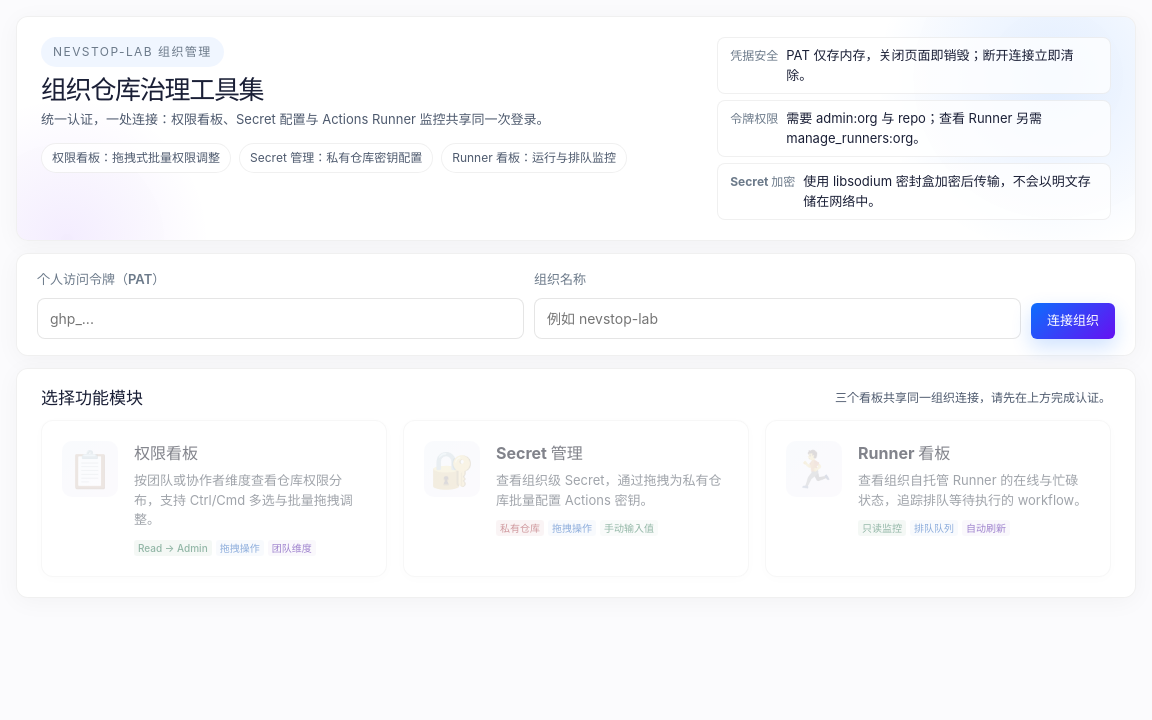
Scenario: Root › connects with an admin token and unlocks board cards
Type "token-value" into the password field labelled "个人访问令牌（PAT）" at (280, 318), box [37,298,524,338]
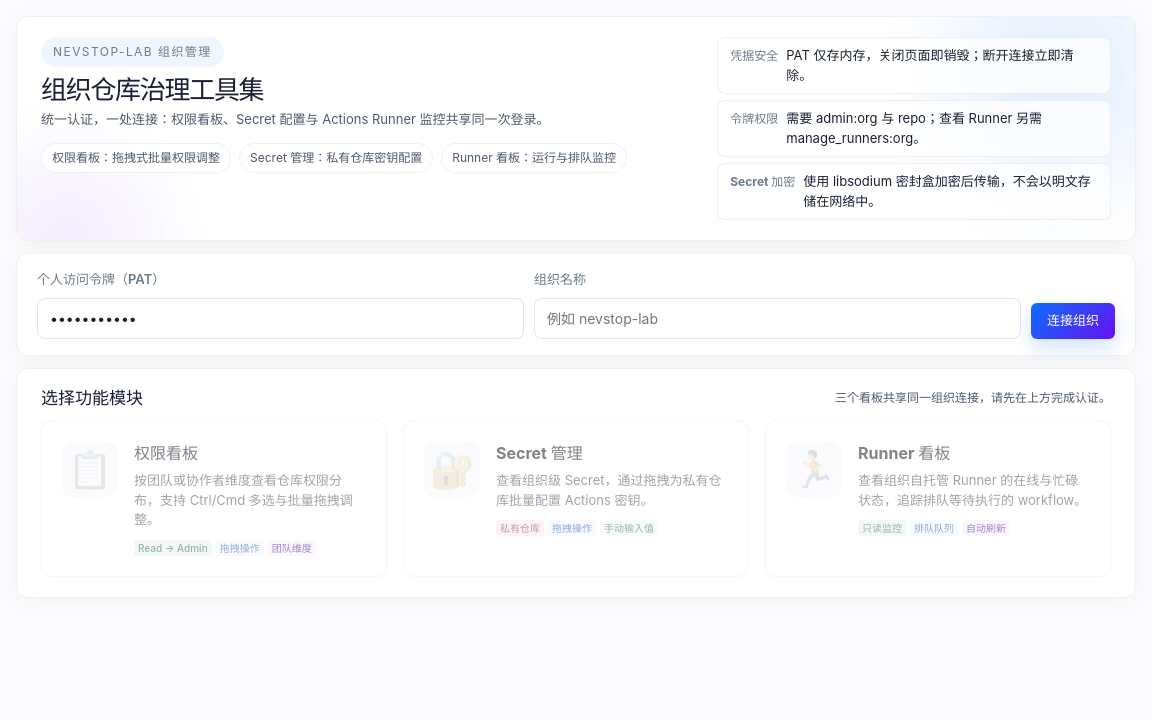
Type "acme" into the field labelled "组织名称" at (778, 318), box [534,298,1021,338]
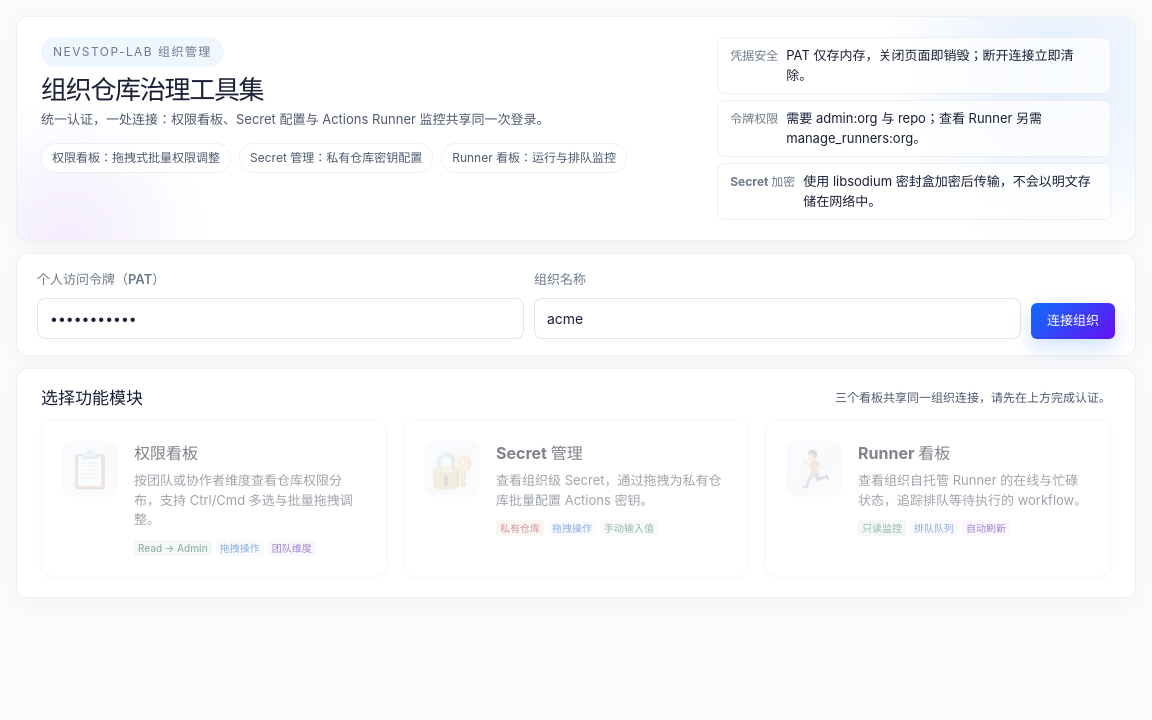
Click the button "连接组织" at (1073, 321), box [1031,303,1115,338]
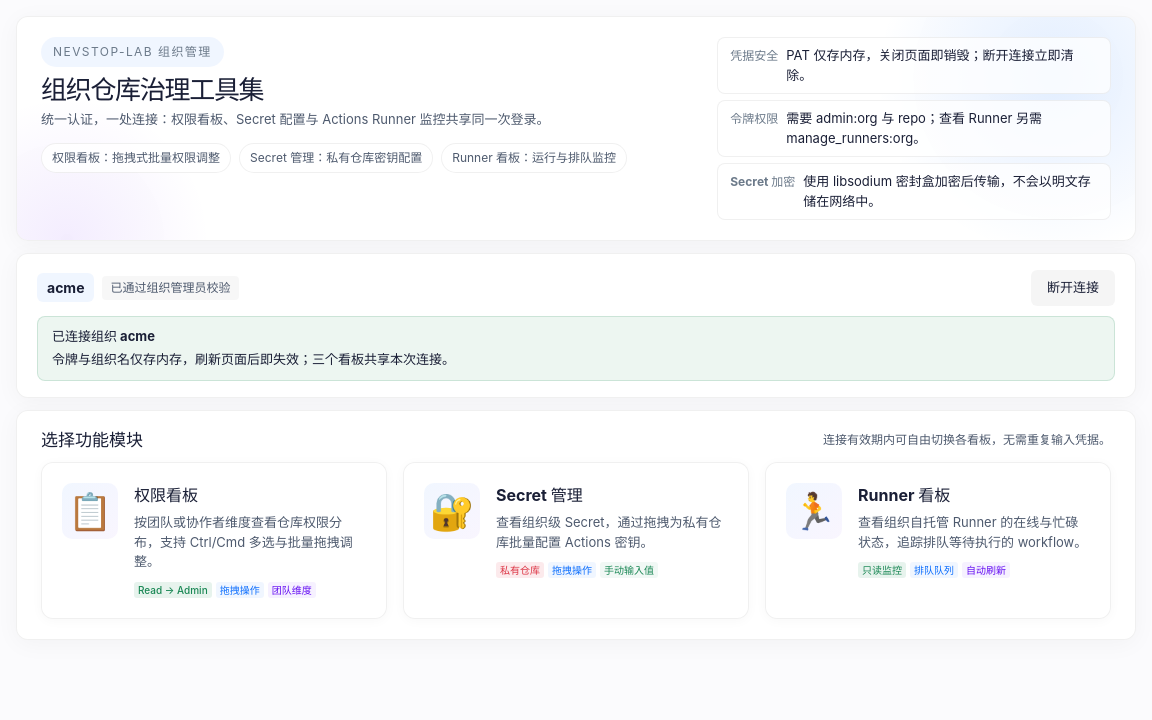
Result: the text "已通过组织管理员校验" is shown at [102,276,238,300]
Result: the button "权限看板" is enabled at [41,462,387,618]
Result: the button "Secret 管理" is enabled at [403,462,749,618]
